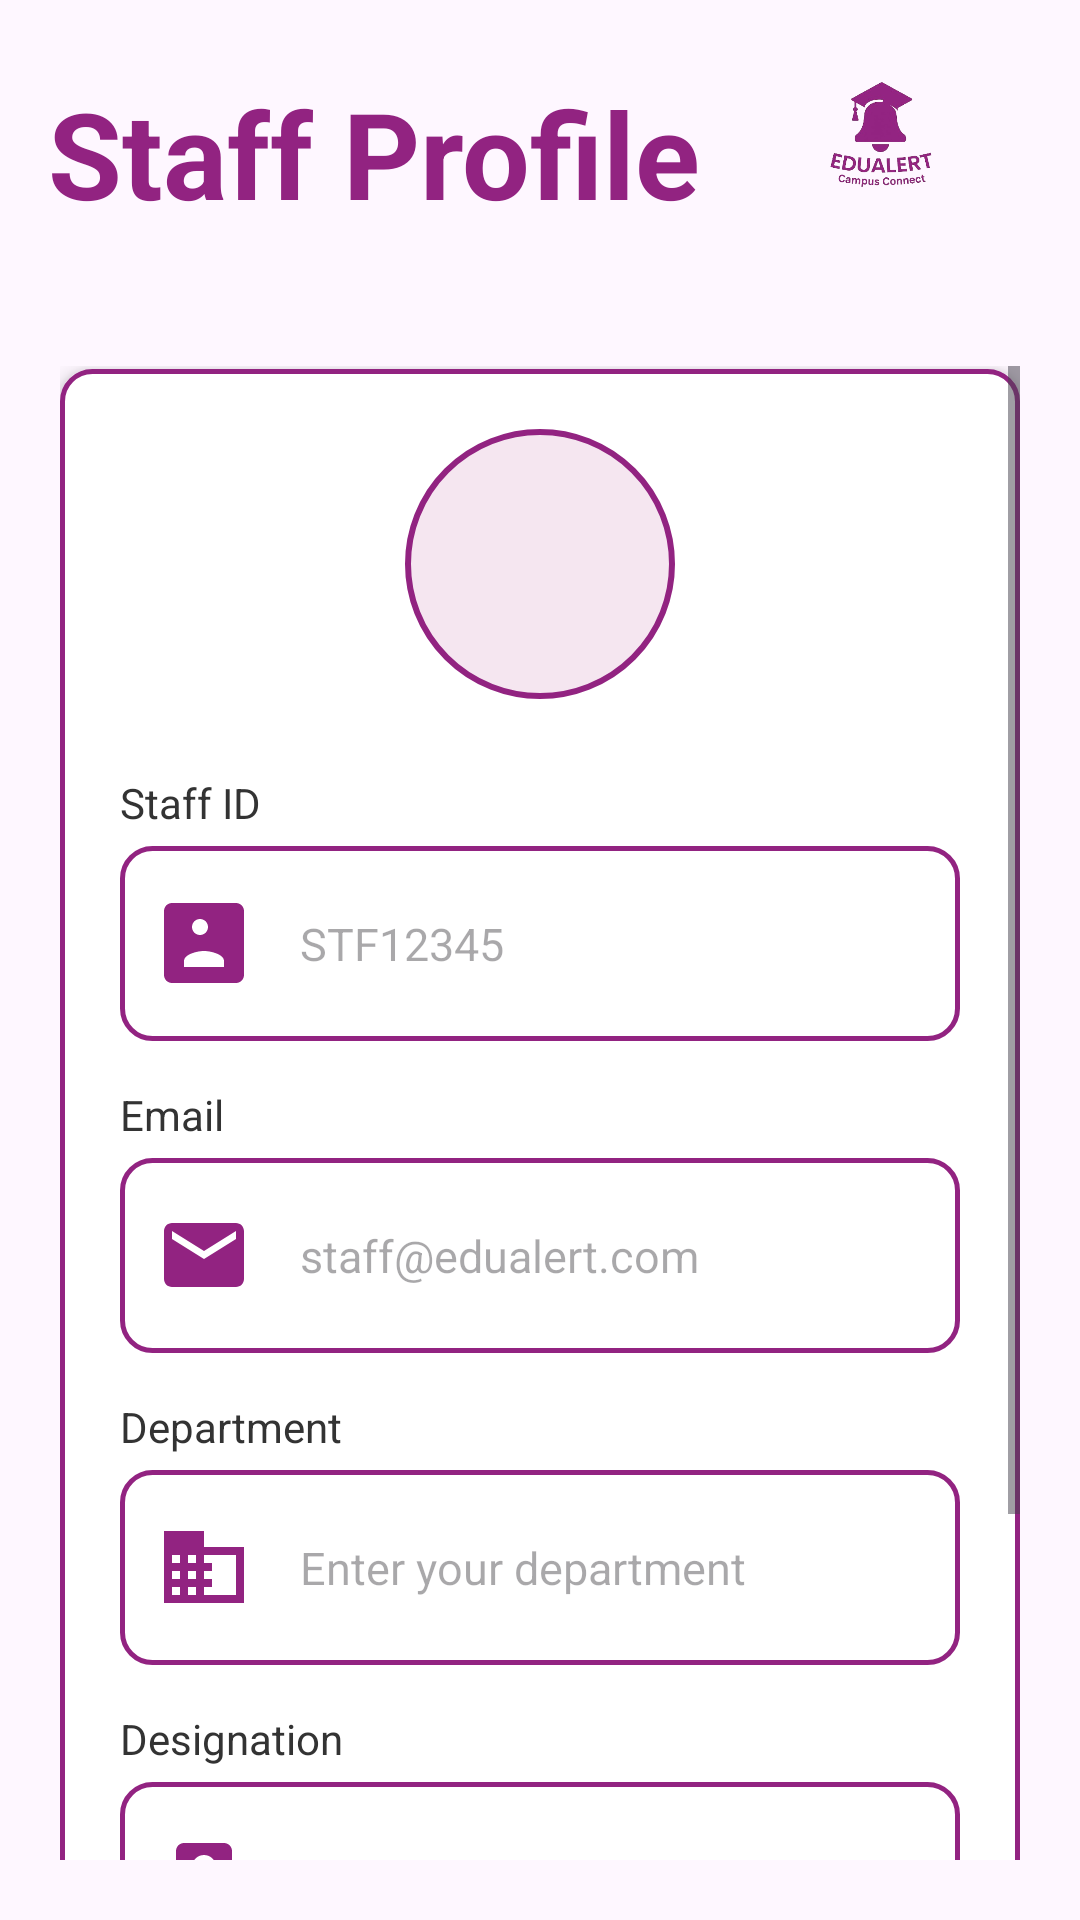

Screen size 1080px x 1920px. Icon name, then its box in pixels as (x1, y1, x2, y2):
domain: (164, 1531, 244, 1603)
